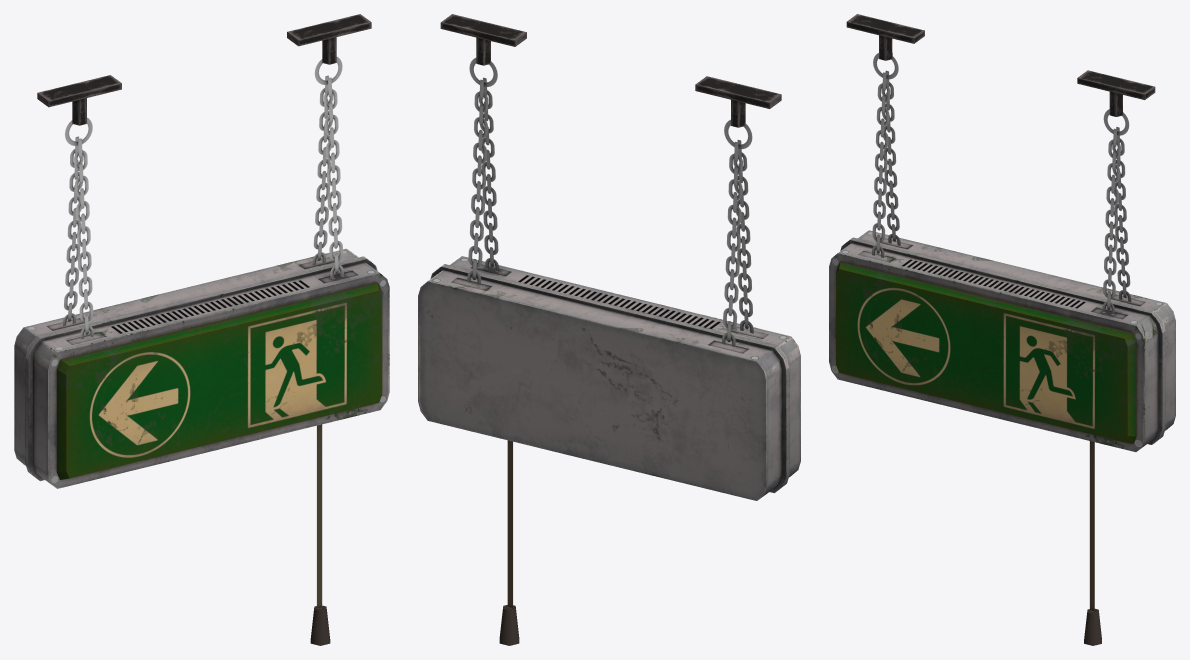
3 renders of one model, left to right at view 1: azimuth 30°, elevation 25°; view 2: azimuth 150°, elevation 25°; view 3: azimuth 330°, elevation 25°, orthographic. The views are drawn at different scales.
Parts seen in each view (by area): view 1: EmergencyExitLight; view 2: EmergencyExitLight; view 3: EmergencyExitLight.
Part boxes in pixels (box(x1,y1,x2,y2)): EmergencyExitLight: box(14, 14, 389, 645); EmergencyExitLight: box(418, 14, 800, 645); EmergencyExitLight: box(829, 14, 1175, 645).
Size of the model in its own units: 1.21 by 2 by 0.2357.
1 material, 1 textured.
